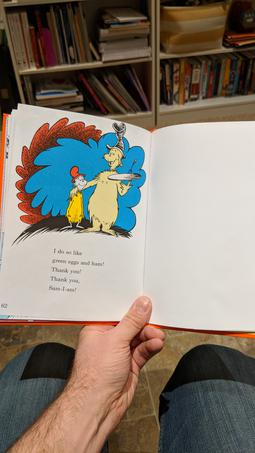text block: (41, 240, 107, 302)
